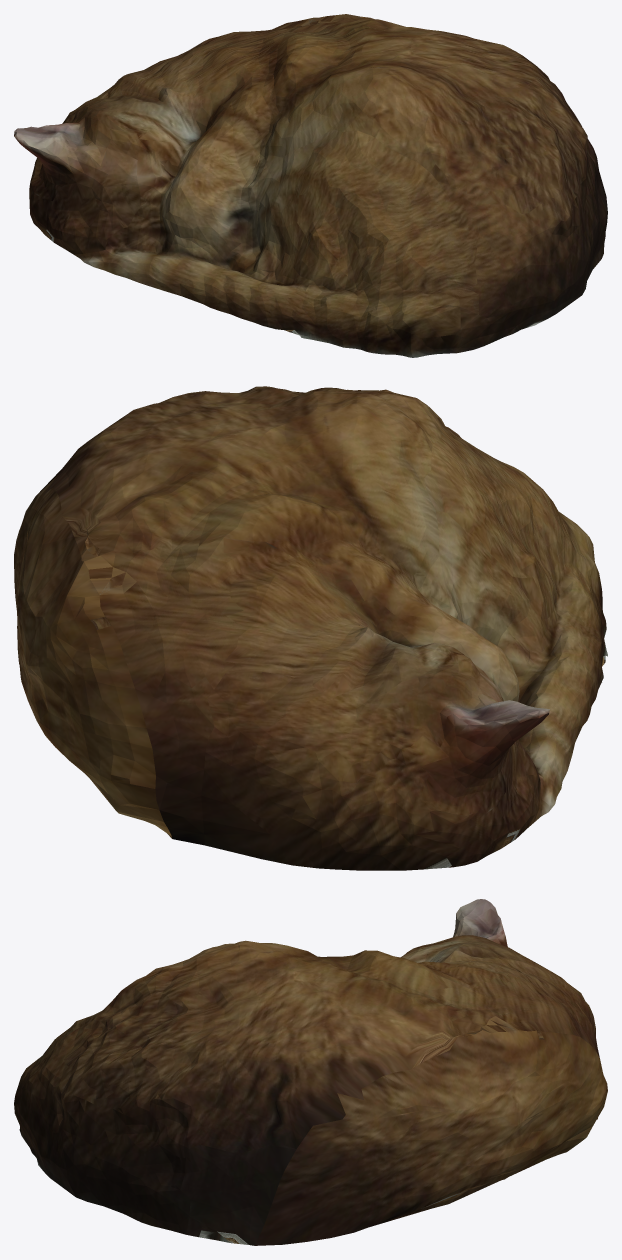
The model's file is risko.glb.
3 views of the same model, one above another, from view 1: azimuth 30°, elevation 25°; view 2: azimuth 150°, elevation 25°; view 3: azimuth 270°, elevation 25° (orthographic). The views are drawn at different scales.
Visible parts, largest first — view 1: Mesh_0; view 2: Mesh_0; view 3: Mesh_0.
Boxes of the visible parts, bbox=[...] form: Mesh_0: bbox=[14, 14, 607, 357]; Mesh_0: bbox=[14, 386, 607, 870]; Mesh_0: bbox=[14, 899, 607, 1245].
Bounding box in the file's own units: 0.7416 × 0.2916 × 0.7864.
Materials: 1 (1 with a texture image).
